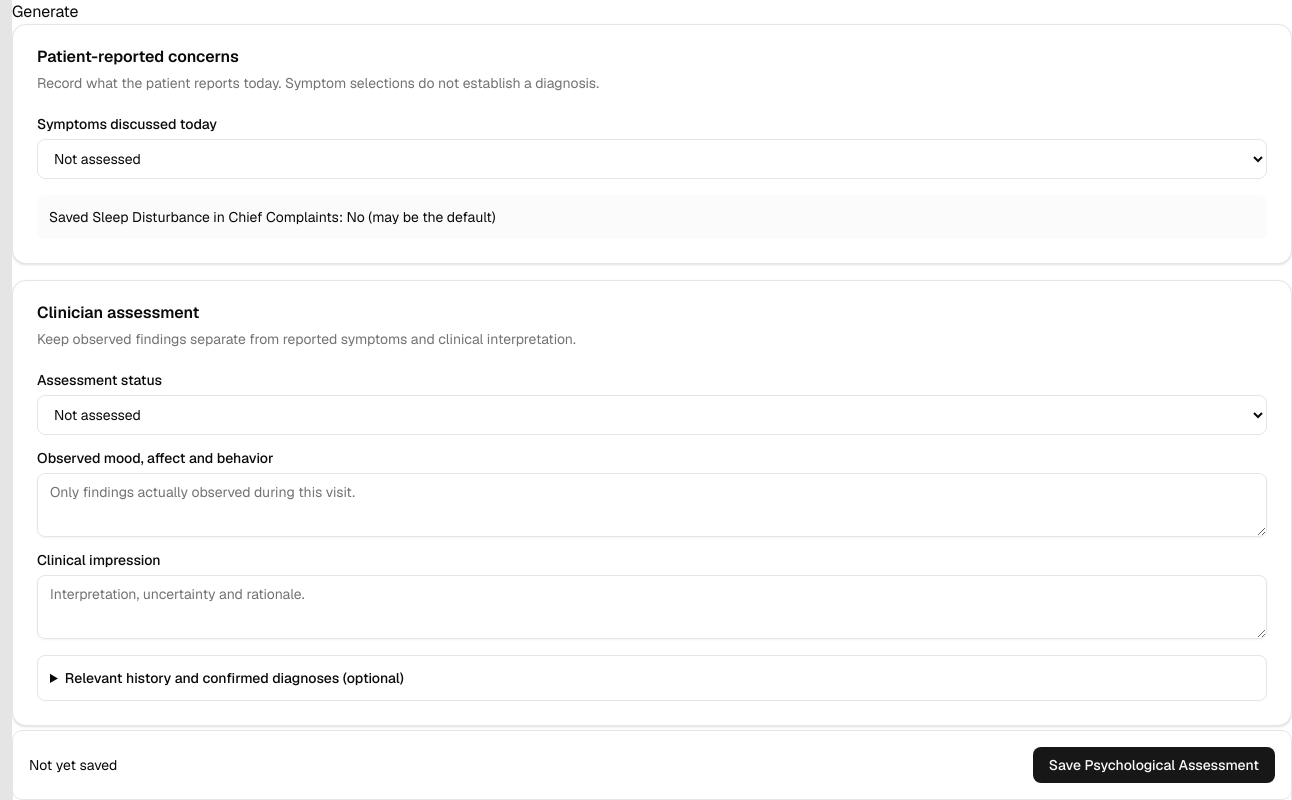
Test: psychological assessment form › keeps safety documentation available without reported symptoms
This screenshot has width=1292, height=800.
Select "No symptoms reported" in the dropdown labelled "Symptoms discussed today" at (652, 159), box [37,139,1267,179]
(page scrolled)
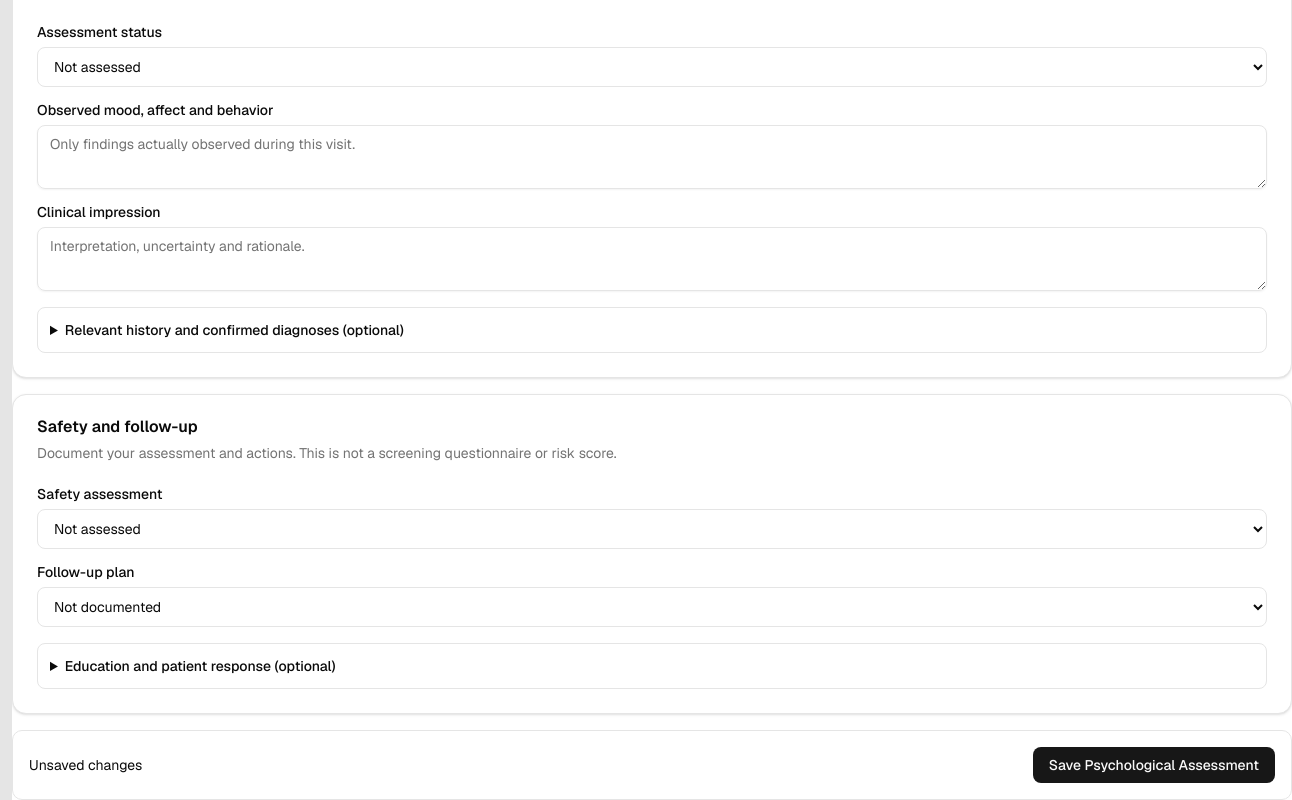
Select "Concerns identified" in the dropdown labelled "Safety assessment" at (652, 529), box [37,509,1267,549]
(page scrolled)
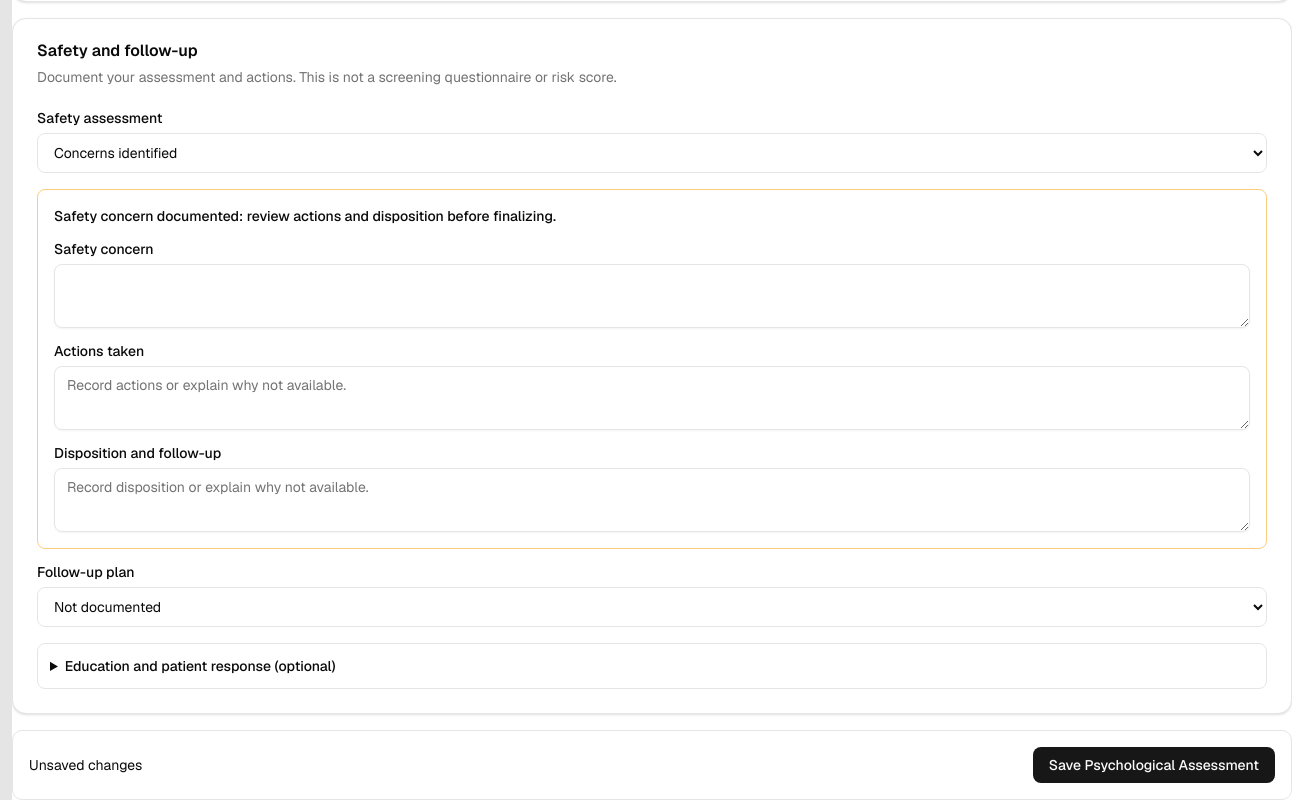
Check: the text box labelled "Actions taken" is shown, box [54,366,1250,430]
Check: the text box labelled "Disposition and follow-up" is shown, box [54,468,1250,532]
